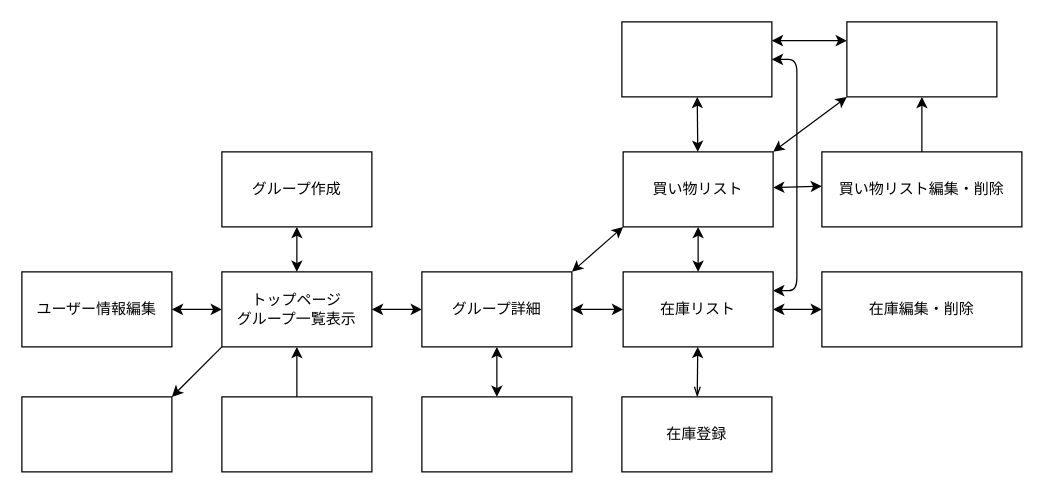
The diagram is 1044 pixels wide and 494 high, and some of its shapes have lost their labels. Here are the shapes that lost their labels. From the top down, the box of each, then its label:
(621, 21, 772, 97): 買い物リスト登録
(846, 21, 997, 97): 商品単価比較
(21, 396, 172, 472): サインアウト
(221, 396, 372, 472): サインアップ サインイン
(421, 396, 572, 472): グループ編集・削除
